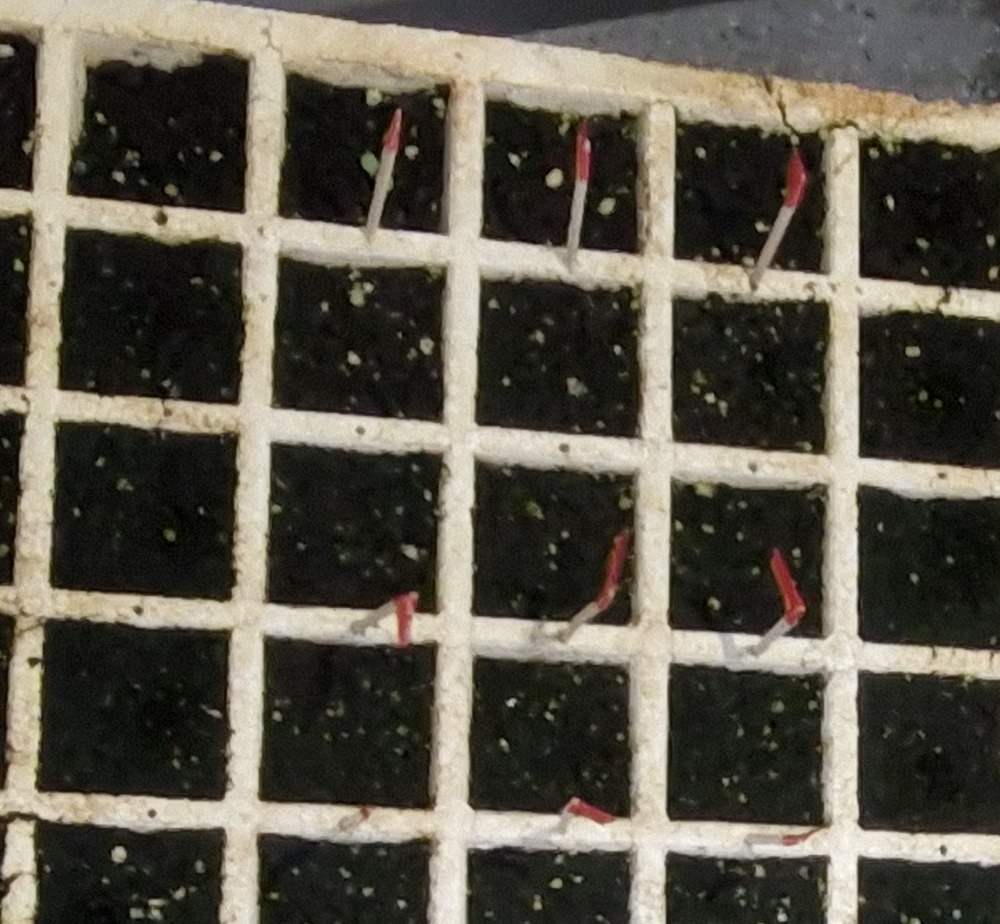Folha: (361, 152, 378, 174)
Germinacao: (360, 152, 378, 174)
